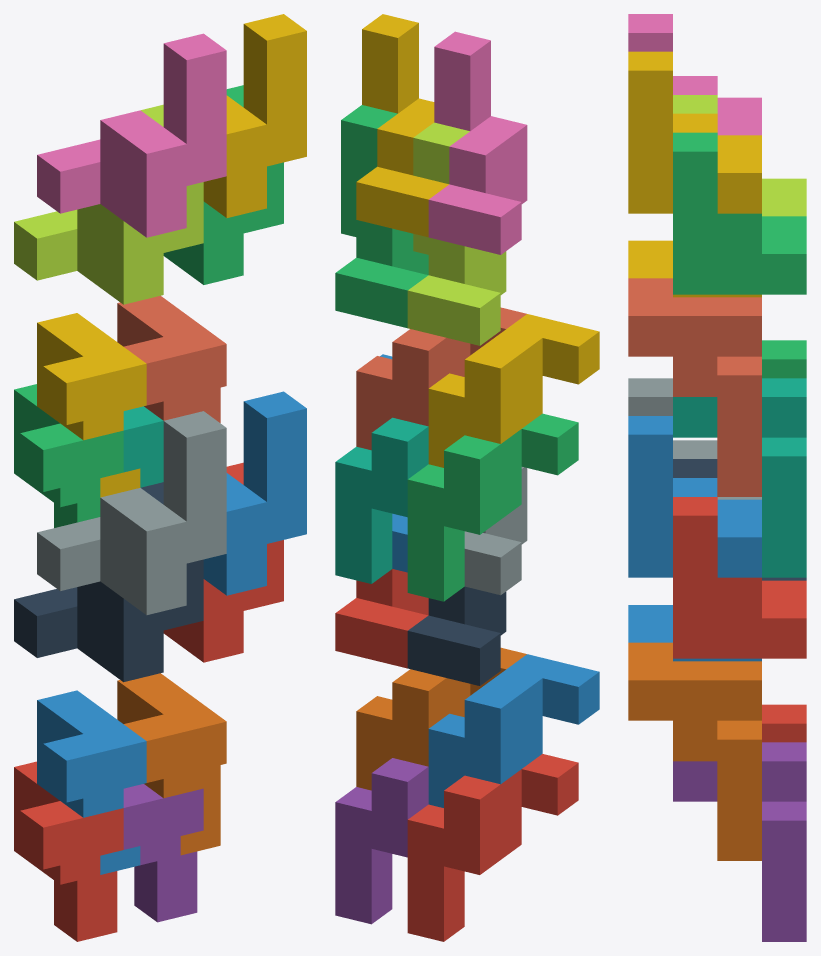
Rendered from tiling.obj.
3 renders of one model, left to right at view 1: azimuth 30°, elevation 25°; view 2: azimuth 150°, elevation 25°; view 3: azimuth 270°, elevation 25°, orthographic. The views are drawn at different scales.
Visible parts, largest first — view 1: copy_2_domain_2, copy_2_domain_4, copy_2_domain_6, copy_2_domain_8, copy_2_domain_3, copy_2_domain_1, copy_1_domain_1, copy_1_domain_4, copy_1_domain_2, copy_1_domain_6, copy_1_domain_8, copy_1_domain_3 (+4 smaller); view 2: copy_1_domain_3, copy_1_domain_1, copy_2_domain_4, copy_1_domain_2, copy_1_domain_4, copy_2_domain_8, copy_2_domain_3, copy_1_domain_5, copy_1_domain_7, copy_2_domain_7, copy_1_domain_6, copy_1_domain_8 (+4 smaller); view 3: copy_1_domain_6, copy_1_domain_8, copy_2_domain_7, copy_2_domain_5, copy_2_domain_8, copy_2_domain_6, copy_1_domain_5, copy_1_domain_7, copy_2_domain_4, copy_2_domain_2, copy_2_domain_3, copy_1_domain_4 (+4 smaller).
Boxes of the visible parts, <box> form: copy_2_domain_2: <box>37,411,226,615</box>; copy_2_domain_4: <box>37,33,226,237</box>; copy_2_domain_6: <box>203,391,306,595</box>; copy_2_domain_8: <box>203,14,306,217</box>; copy_2_domain_3: <box>14,104,203,304</box>; copy_2_domain_1: <box>14,482,203,682</box>; copy_1_domain_1: <box>14,761,123,941</box>; copy_1_domain_4: <box>37,313,146,497</box>; copy_1_domain_2: <box>37,690,146,874</box>; copy_1_domain_6: <box>117,673,226,855</box>; copy_1_domain_8: <box>117,295,226,422</box>; copy_1_domain_3: <box>14,384,123,527</box>; copy_1_domain_3: <box>407,413,578,601</box>; copy_1_domain_1: <box>407,754,578,941</box>; copy_2_domain_4: <box>428,31,527,254</box>; copy_1_domain_2: <box>428,654,599,807</box>; copy_1_domain_4: <box>428,314,599,467</box>; copy_2_domain_8: <box>356,14,448,237</box>; copy_2_domain_3: <box>407,122,506,345</box>; copy_1_domain_5: <box>335,758,428,924</box>; copy_1_domain_7: <box>335,417,428,583</box>; copy_2_domain_7: <box>335,105,428,328</box>; copy_1_domain_6: <box>356,647,526,790</box>; copy_1_domain_8: <box>356,307,526,450</box>; copy_1_domain_6: <box>628,642,761,860</box>; copy_1_domain_8: <box>628,278,761,496</box>; copy_2_domain_7: <box>673,132,806,294</box>; copy_2_domain_5: <box>673,497,806,658</box>; copy_2_domain_8: <box>628,51,761,213</box>; copy_2_domain_6: <box>628,416,761,577</box>; copy_1_domain_5: <box>673,742,806,941</box>; copy_1_domain_7: <box>673,378,806,577</box>; copy_2_domain_4: <box>628,14,761,135</box>; copy_2_domain_2: <box>628,378,761,499</box>; copy_2_domain_3: <box>673,95,806,216</box>; copy_1_domain_4: <box>628,240,761,297</box>.
Bounding box in the file's own units: 6 × 22 × 4.
